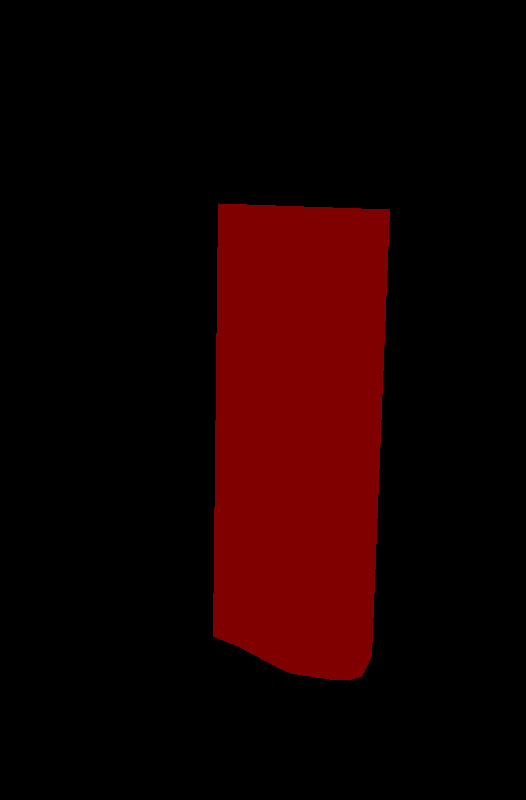sign: (213, 203, 389, 680)
